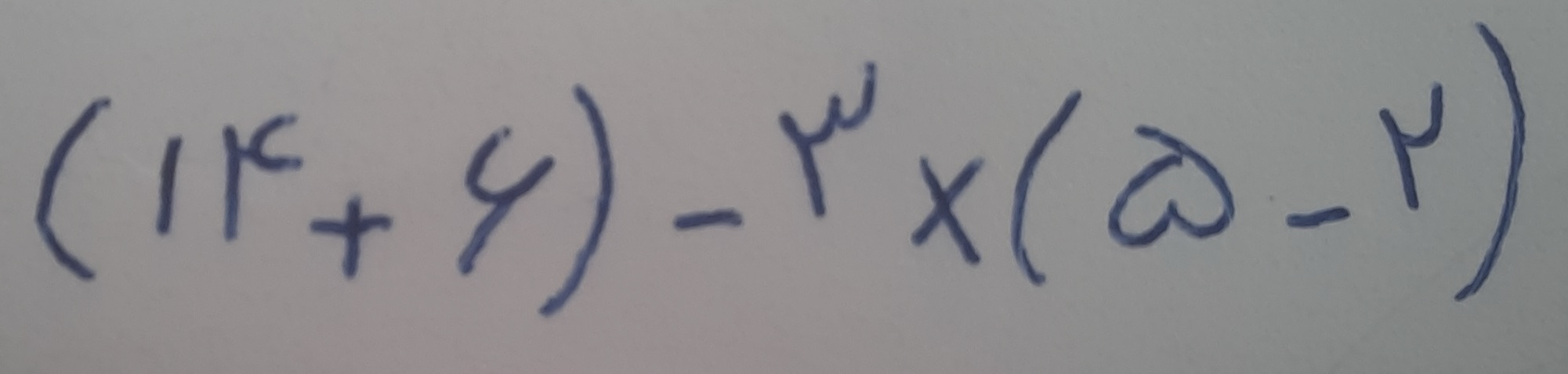character: (1449, 16, 1531, 309), (531, 76, 620, 325), (774, 53, 882, 226), (1105, 116, 1239, 254), (450, 116, 561, 280), (32, 92, 117, 287), (1007, 83, 1086, 289), (216, 106, 305, 251), (908, 148, 988, 271), (1375, 79, 1447, 215), (304, 187, 398, 286), (147, 128, 188, 243), (666, 200, 748, 240), (1283, 200, 1355, 234)
